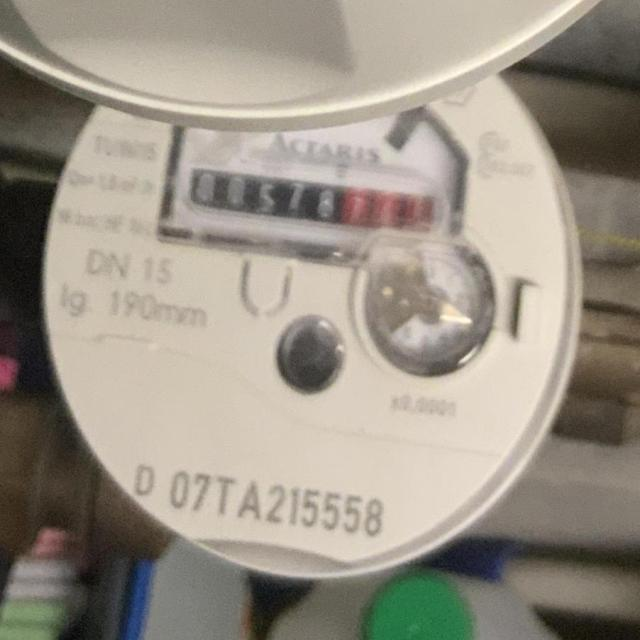gaz_meter: (50, 46, 583, 578)
indication: (182, 158, 435, 244)
